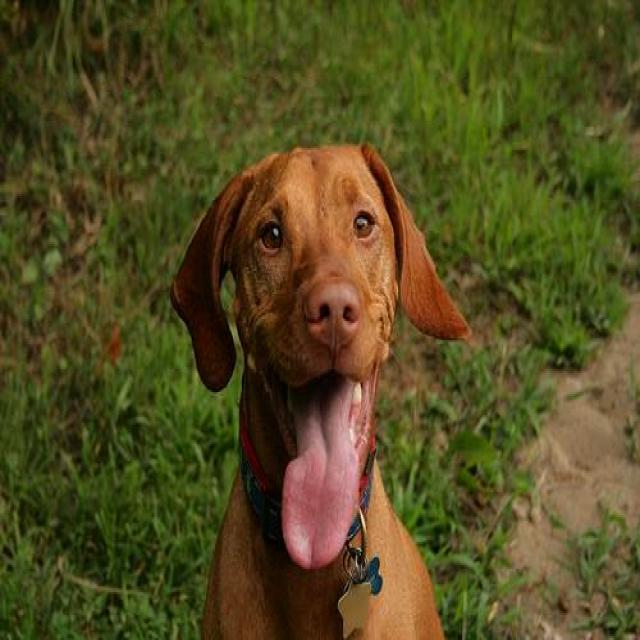vizsla: (172, 140, 478, 638)
